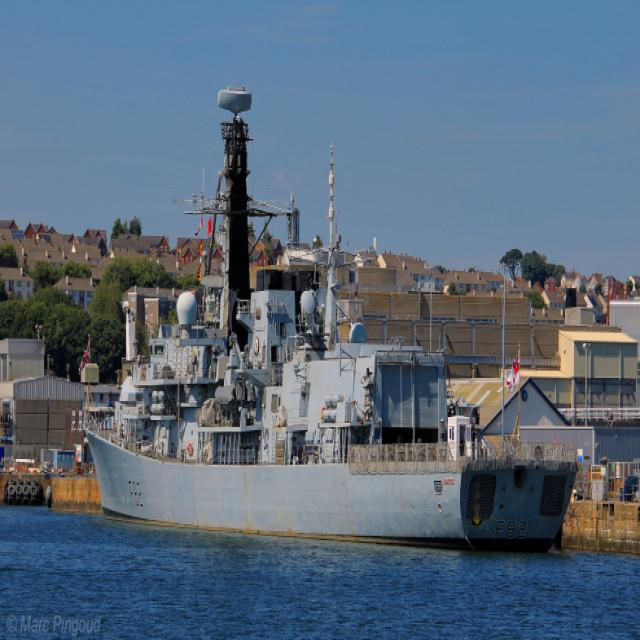Fragata: (80, 79, 586, 557)
